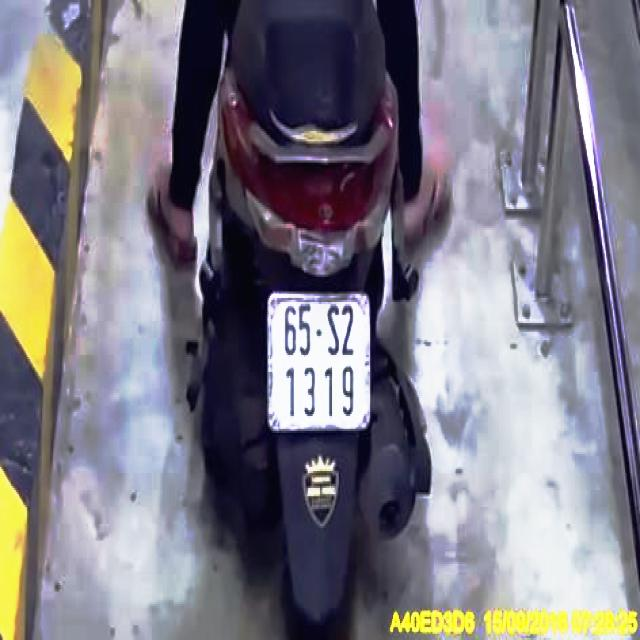license_plate: (270, 298, 371, 425)
